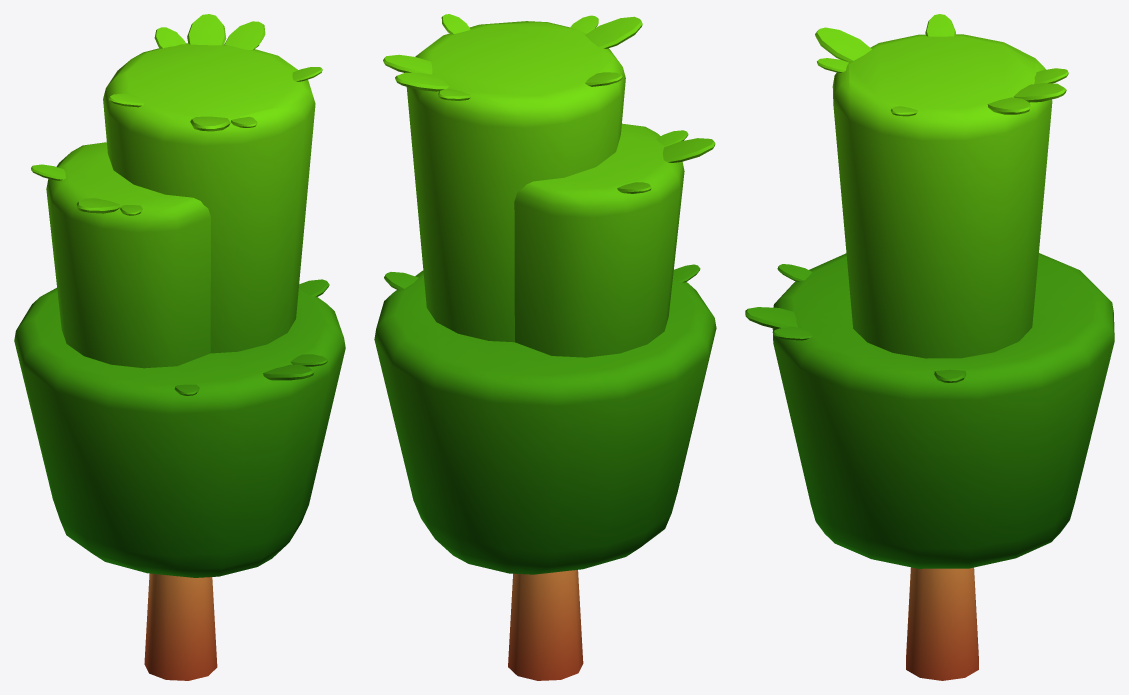
Rendered from Tree-M1-01.fbx.
3 views of the same model, side by side, from view 1: azimuth 30°, elevation 25°; view 2: azimuth 150°, elevation 25°; view 3: azimuth 270°, elevation 25° (orthographic). The views are drawn at different scales.
Parts seen in each view (by area): view 1: Tree_M1_01; view 2: Tree_M1_01; view 3: Tree_M1_01.
Boxes of the visible parts, x1,y1,x2,y2 form: Tree_M1_01: [14, 14, 345, 680]; Tree_M1_01: [374, 14, 716, 680]; Tree_M1_01: [745, 14, 1114, 680].
Bounding box in the file's own units: 216 × 416 × 225.
